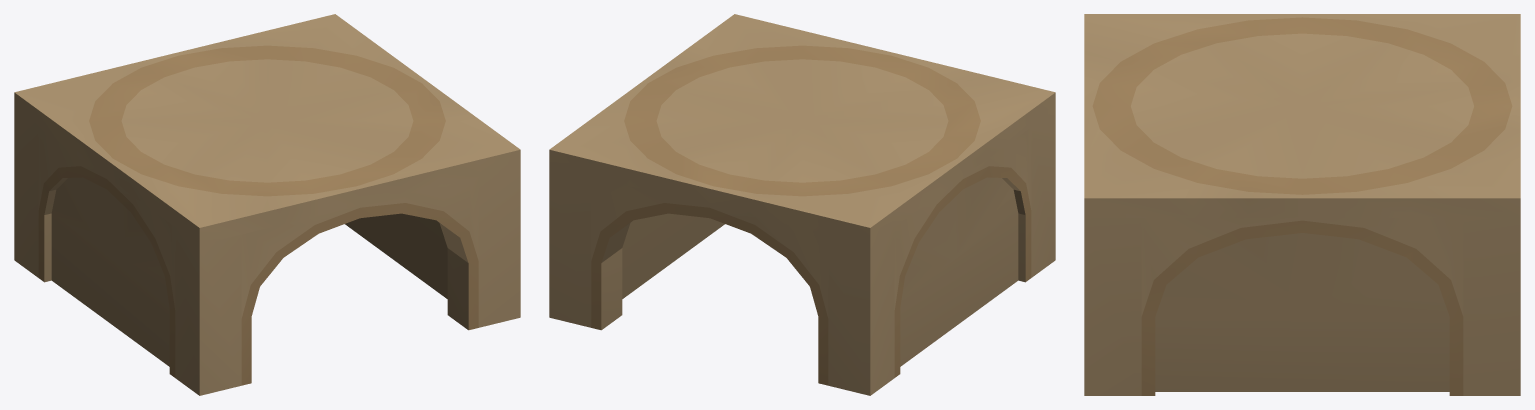
Rendered from dome.arch_2way.sandstone.glb.
3 renders of one model, left to right at view 1: azimuth 30°, elevation 25°; view 2: azimuth 150°, elevation 25°; view 3: azimuth 270°, elevation 25°, orthographic. The views are drawn at different scales.
Visible parts, largest first — view 1: dome_arch_2way_sandstone; view 2: dome_arch_2way_sandstone; view 3: dome_arch_2way_sandstone.
Part boxes in pixels (x1=…): dome_arch_2way_sandstone: x1=14, y1=14, x2=520, y2=395; dome_arch_2way_sandstone: x1=549, y1=14, x2=1055, y2=395; dome_arch_2way_sandstone: x1=1084, y1=14, x2=1520, y2=395.
Size of what is drawn, in the model's own units: 8 by 4 by 8.
